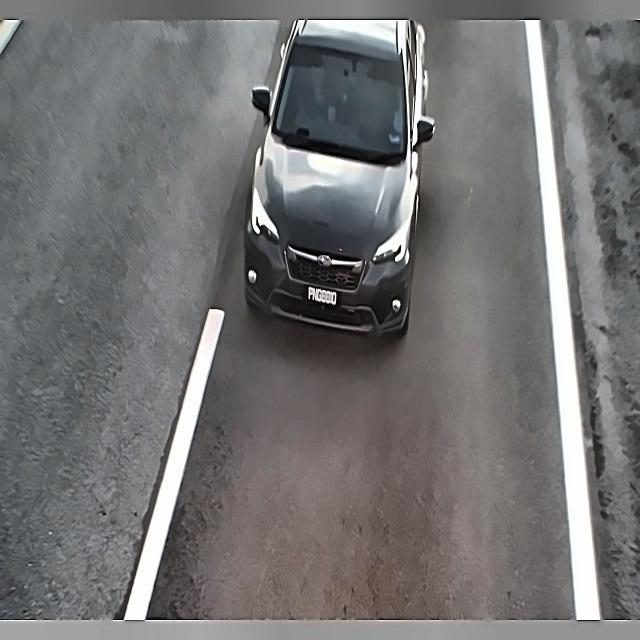car: (300, 282, 342, 312)
